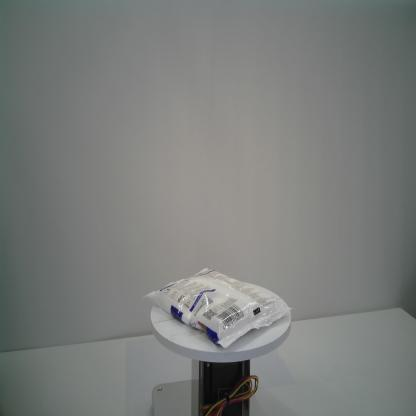Seasoner: (140, 267, 294, 349)
